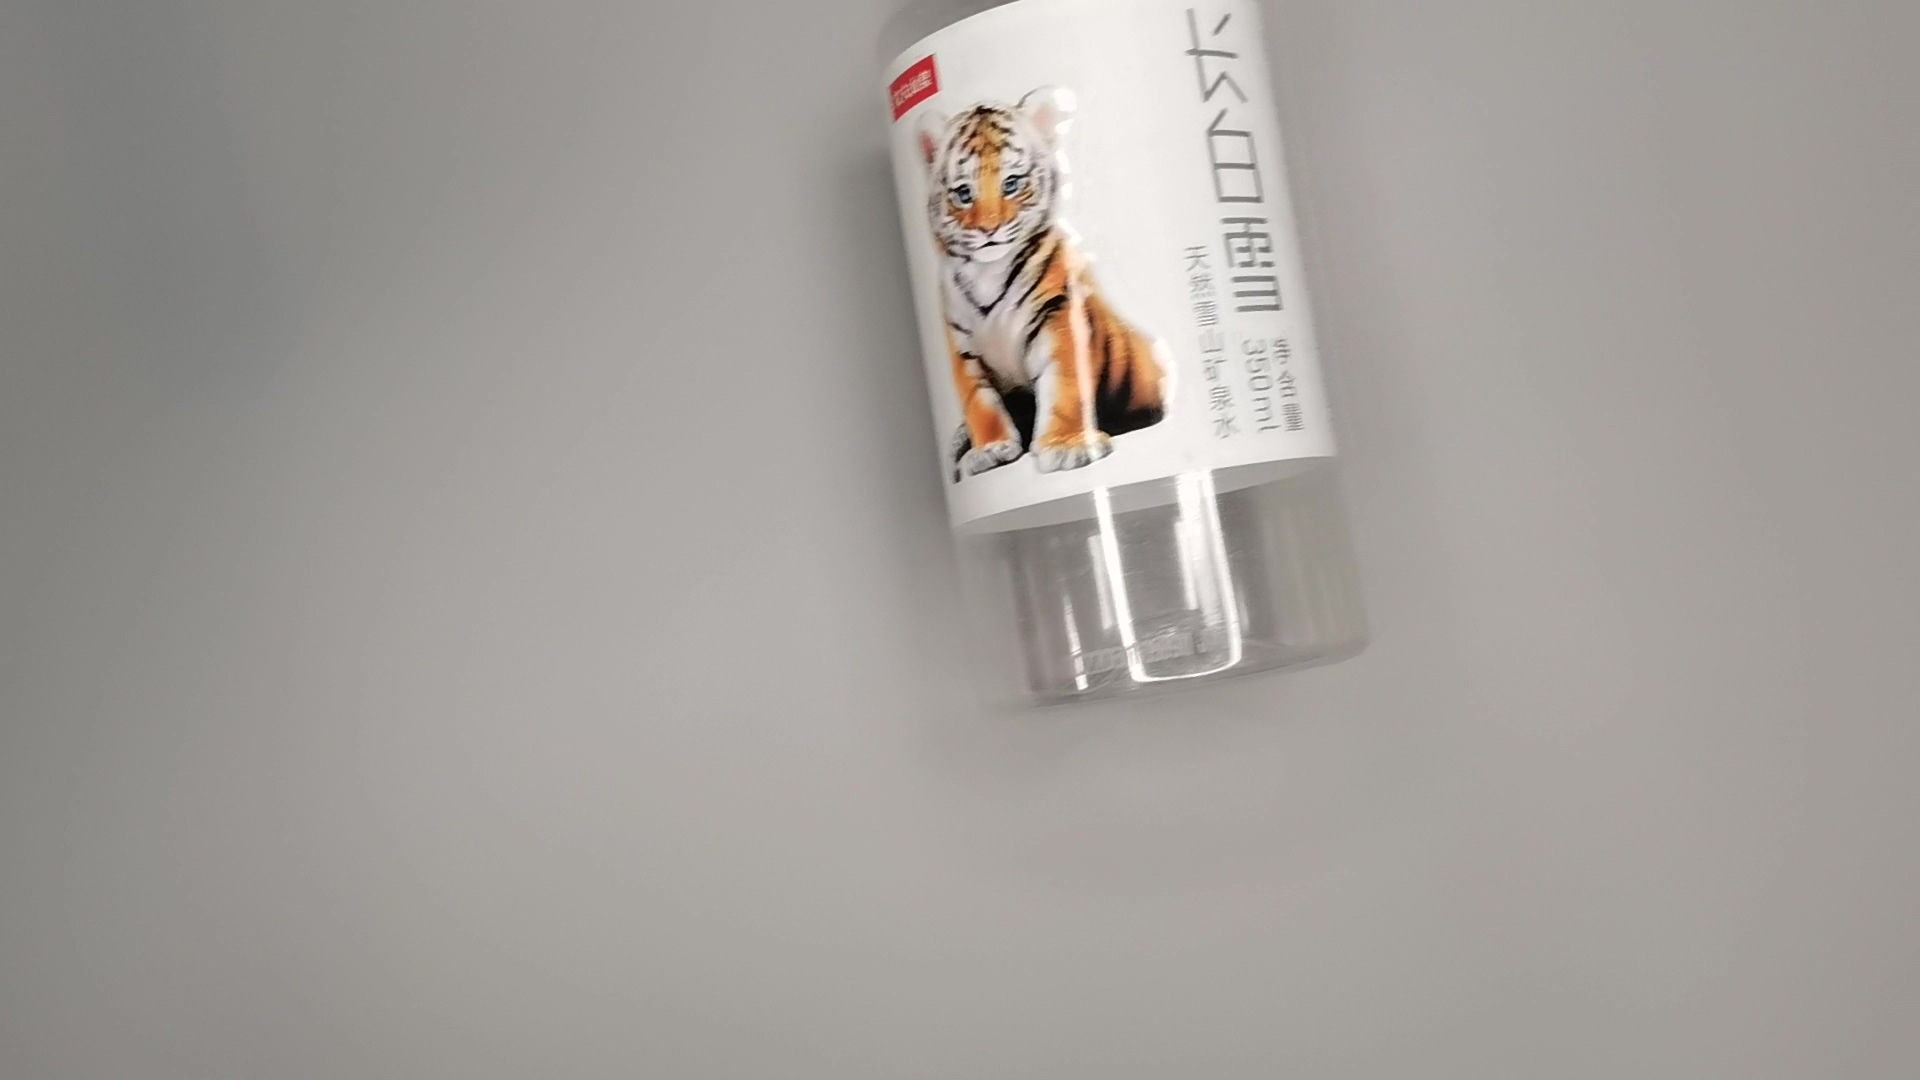bottle: (873, 1, 1377, 709)
